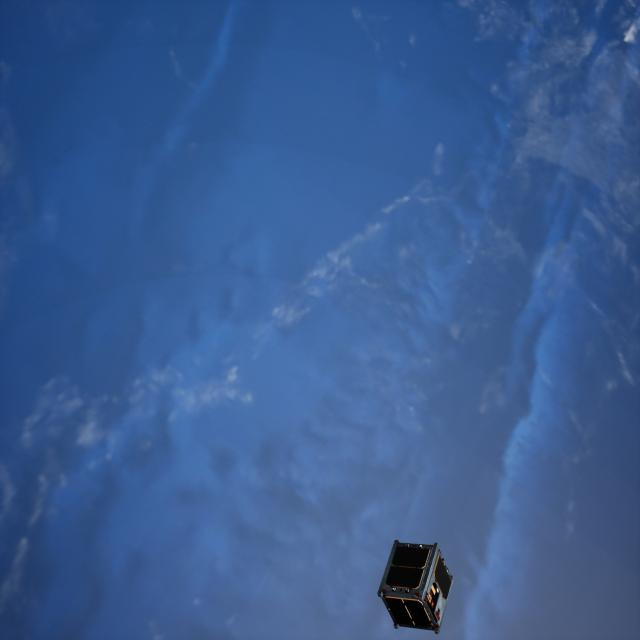satellite: (381, 539, 456, 634)
